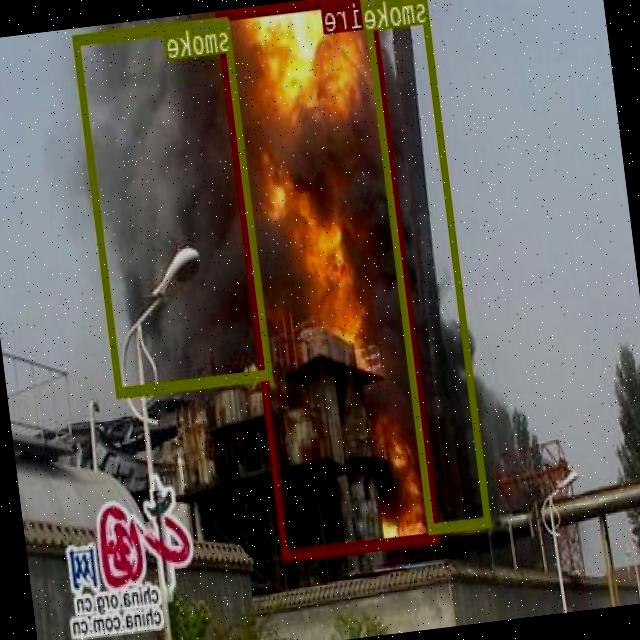fire: (215, 0, 441, 557)
smoke: (74, 13, 273, 396), (363, 0, 492, 531)
